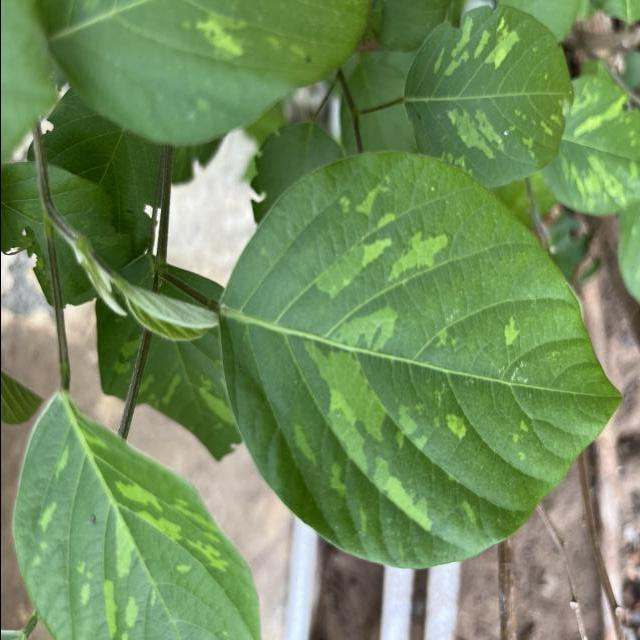Desmodium gangeticum: (208, 144, 625, 576)
